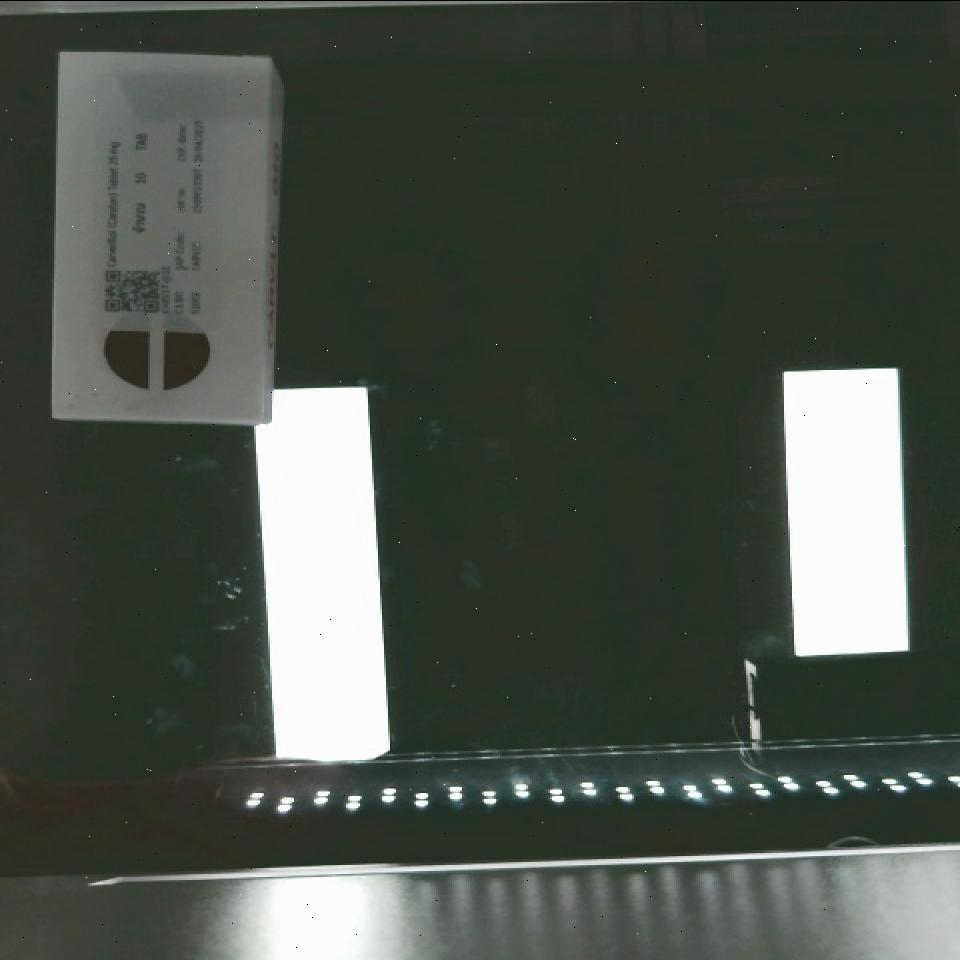medicine_box: (55, 50, 267, 423)
qr_code: (94, 254, 171, 321)
